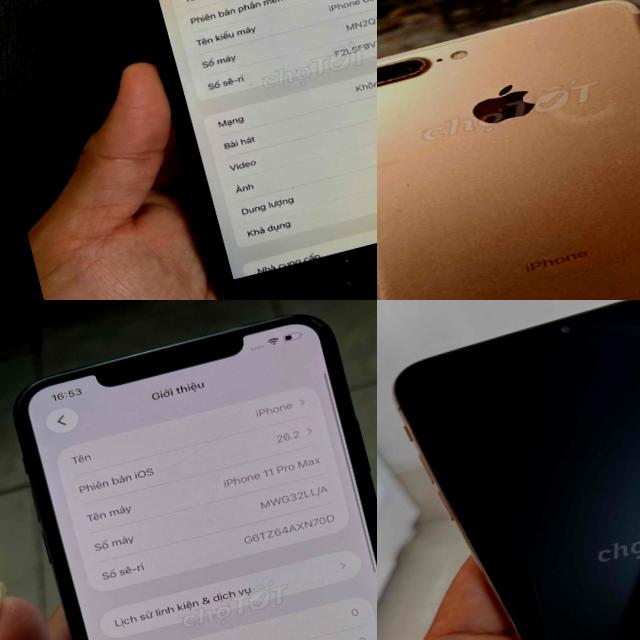scratch: (377, 47, 441, 100), (388, 282, 486, 300), (628, 28, 640, 65)
